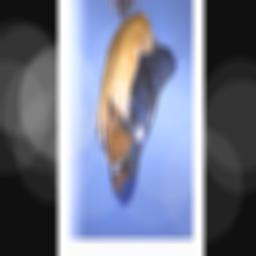Swallow: (94, 0, 189, 213)
